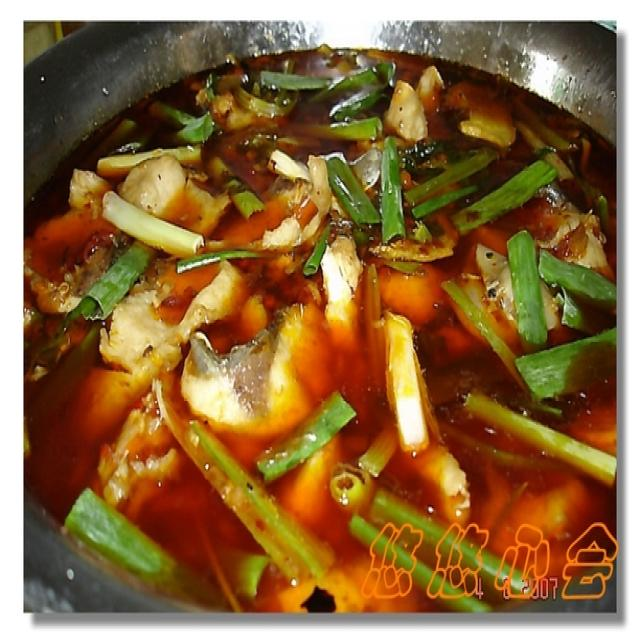汤锅炖物: (29, 27, 616, 607)
